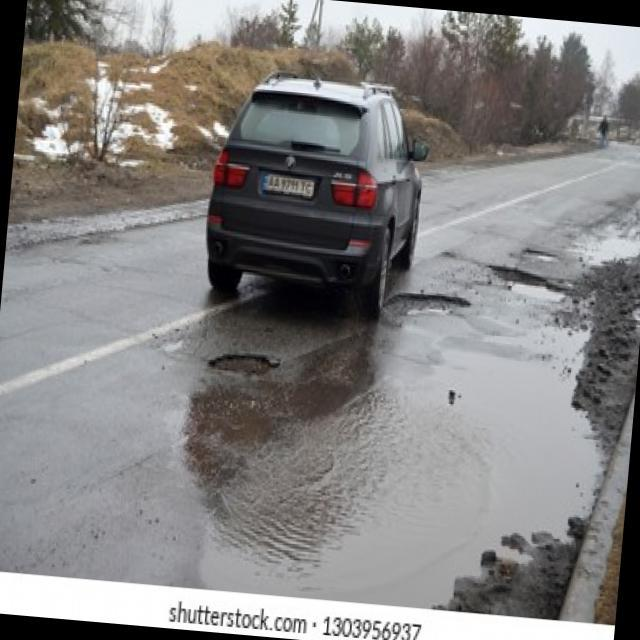Pothole: (480, 262, 570, 304), (383, 286, 473, 326), (204, 350, 280, 379), (520, 245, 562, 264)
